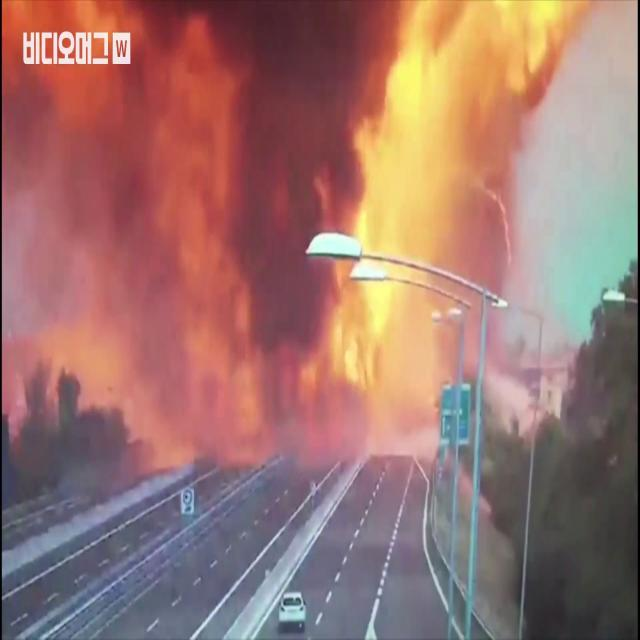explosion: (0, 0, 610, 508)
